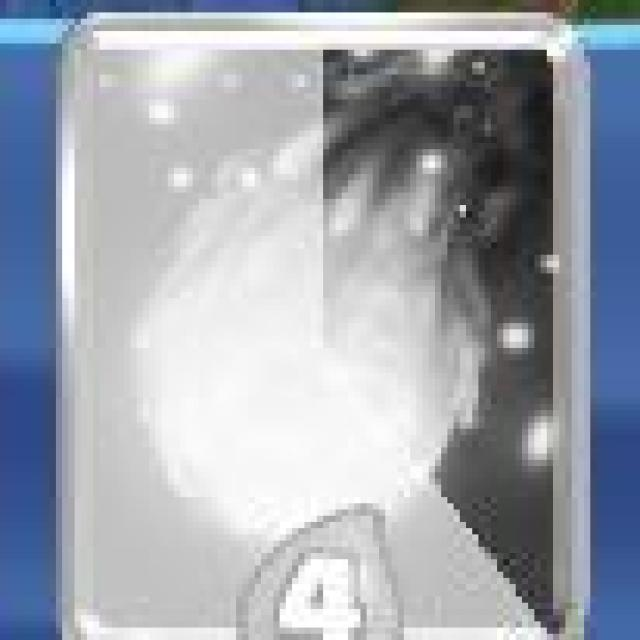Fireball: (50, 13, 592, 636)
